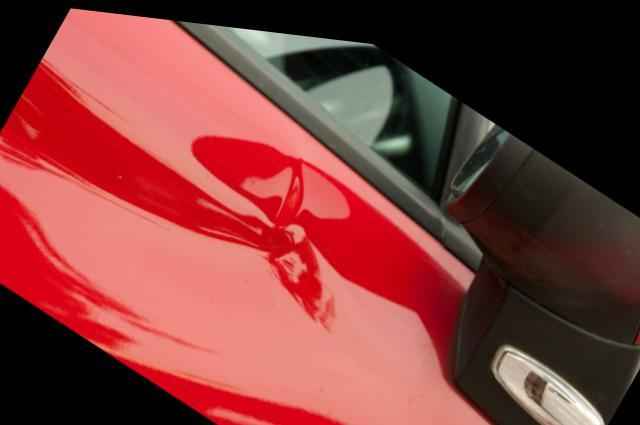dent: (0, 66, 456, 371)
